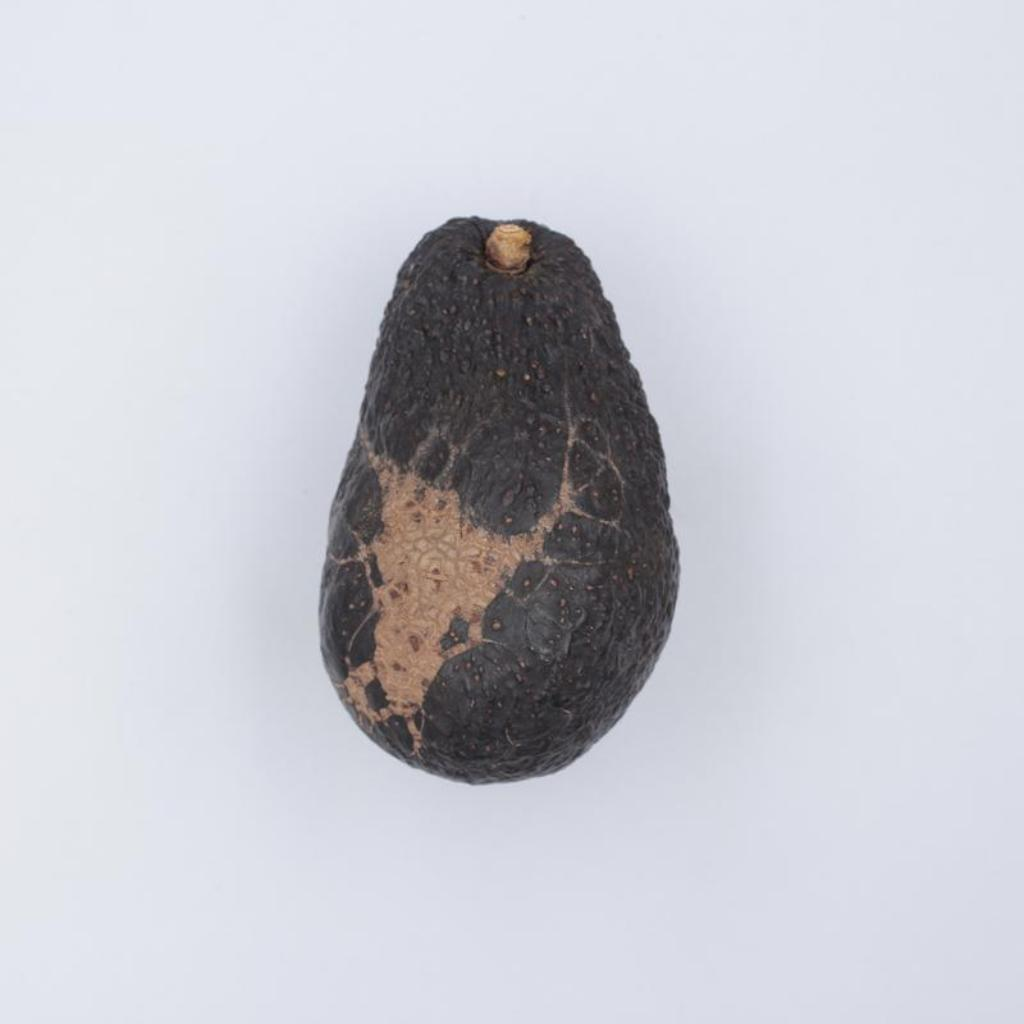scab: (320, 218, 678, 782)
